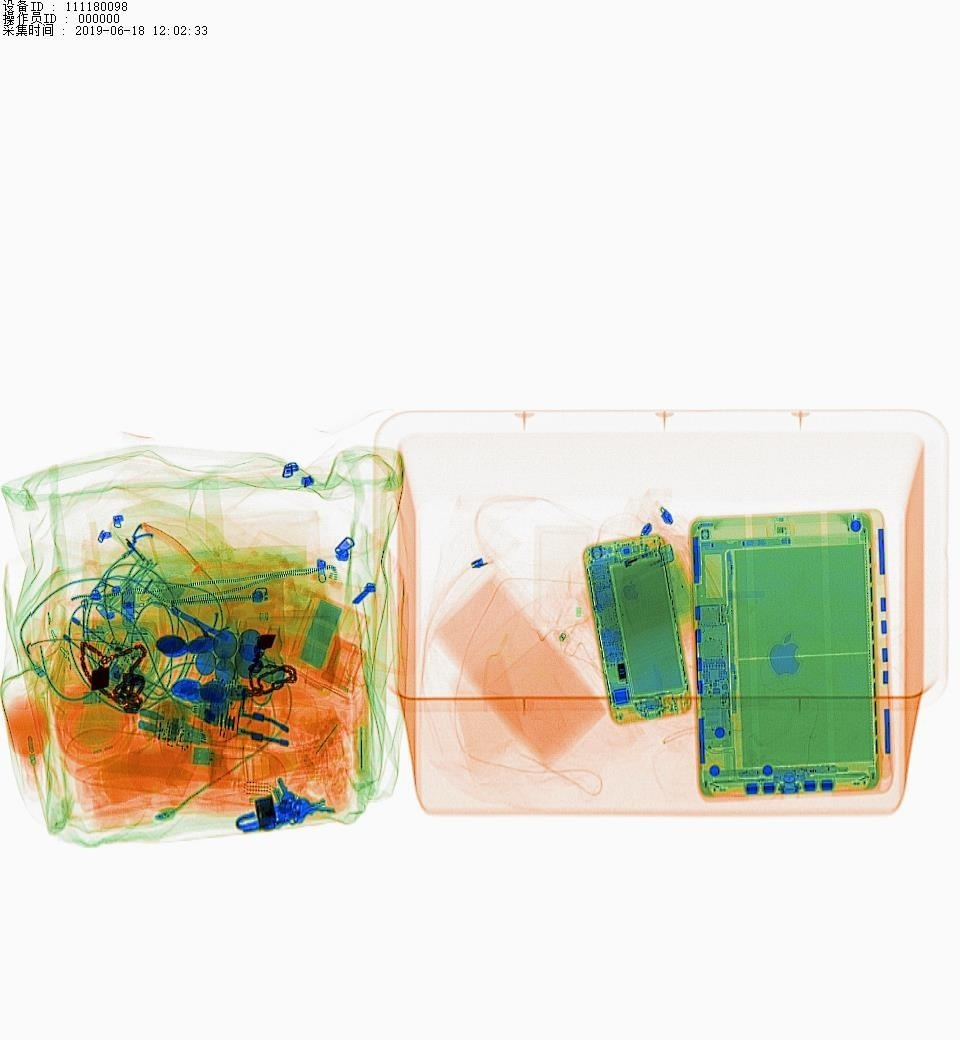NonmetallicFire: (577, 542, 684, 595)
